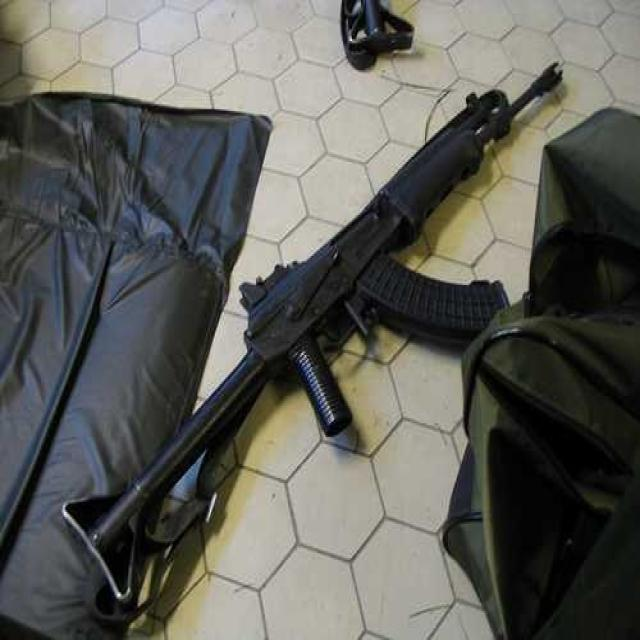Rifle: (57, 50, 565, 613)
